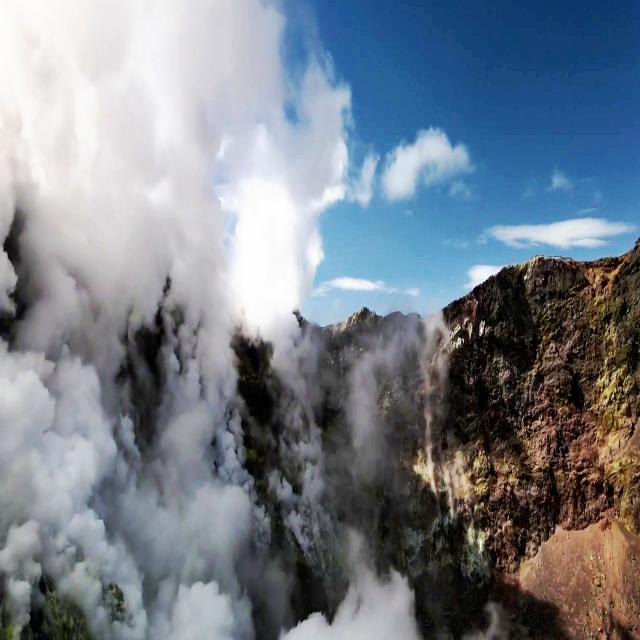asap: (1, 1, 275, 640), (136, 1, 266, 640), (1, 1, 130, 640), (236, 36, 354, 392), (283, 546, 437, 640)
